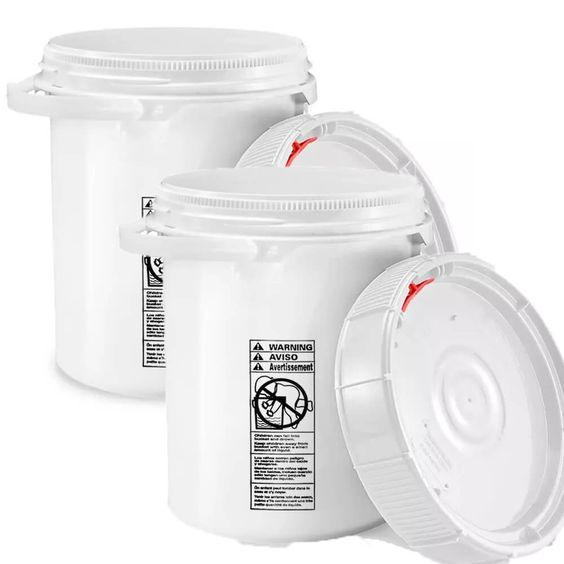HDPE: (97, 123, 564, 564)
